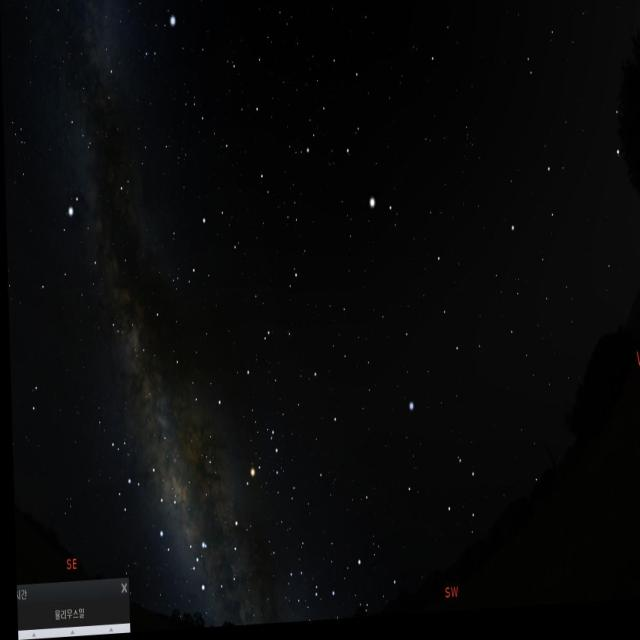aquila: (43, 174, 132, 349)
bootes: (304, 51, 400, 243)
leo: (502, 130, 640, 280)
lyra: (138, 8, 182, 73)
sagittarius: (91, 428, 185, 574)
scorpius: (179, 426, 286, 596)
